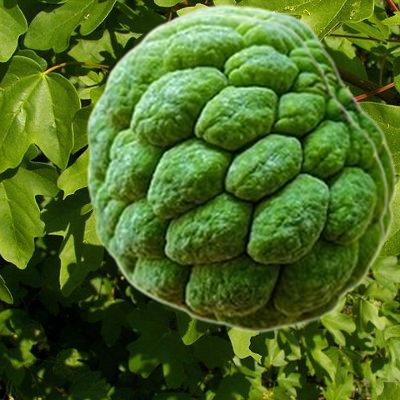atis: (86, 10, 388, 332), (161, 3, 396, 265)
